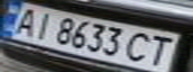3: (103, 25, 130, 58), (84, 21, 109, 55)
6: (66, 18, 90, 51)
8: (48, 15, 78, 47)
A: (6, 6, 42, 36)
C: (124, 29, 160, 64)
I: (27, 10, 60, 40)
T: (142, 33, 181, 66)
